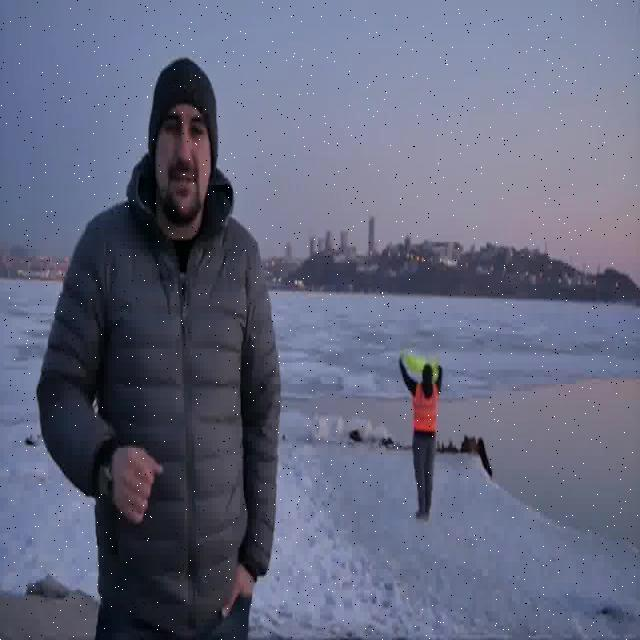Vest: (410, 382, 440, 432)
